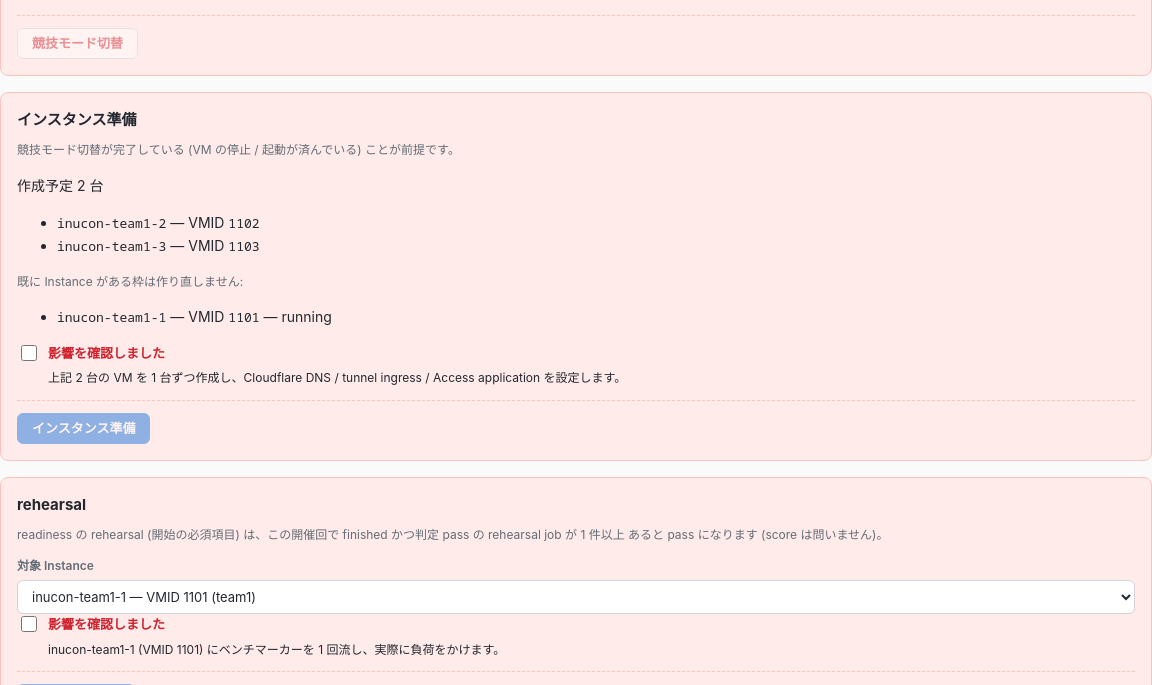
Test: ContestAdmin › Overview の 競技モード切替 / インスタンス準備 › 競技モードでないと拒否されたら先に競技モード切替するよう示す
This screenshot has width=1152, height=685.
(page scrolled)
Click the 1st checkbox.
click(29, 353)  # box [21,345,37,361]
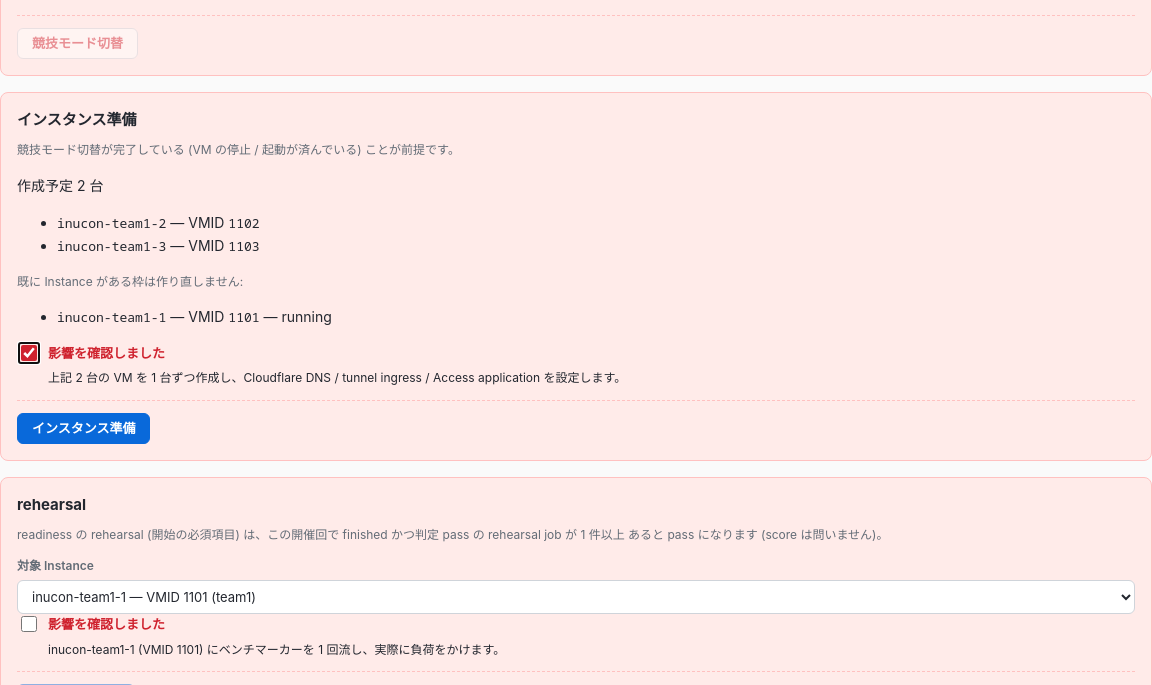
Click the button "インスタンス準備".
click(84, 428)  # box [17,413,150,444]
(page scrolled)
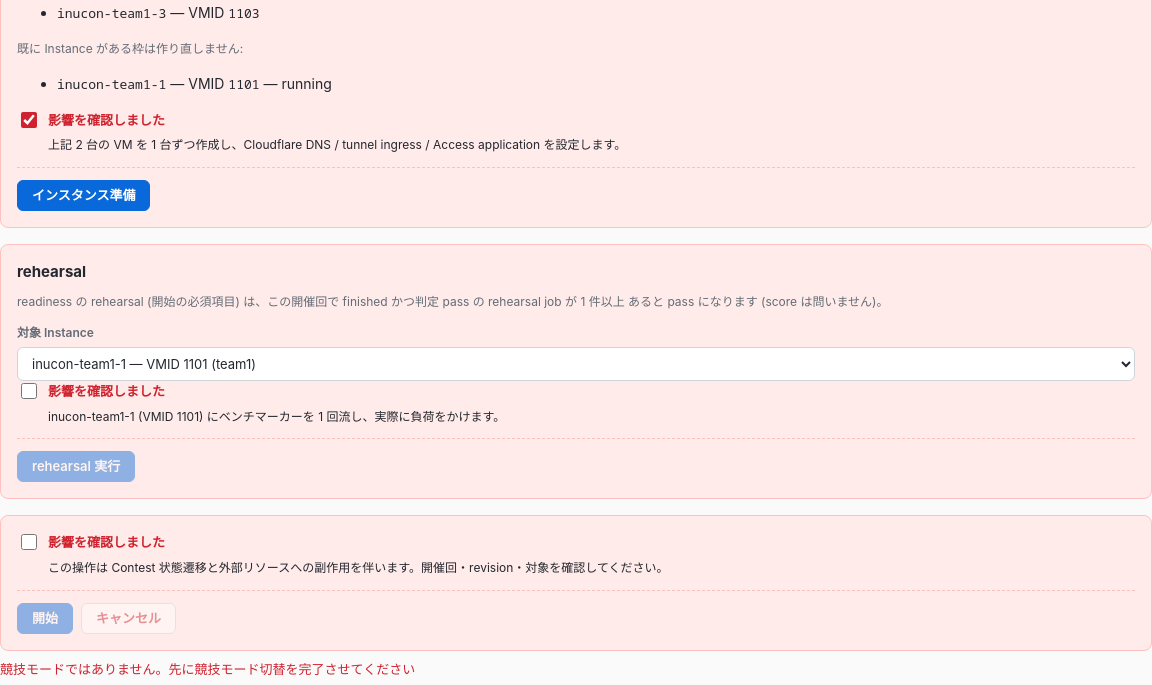
Expected: the message shows "競技モード切替", [0,661,415,677]
